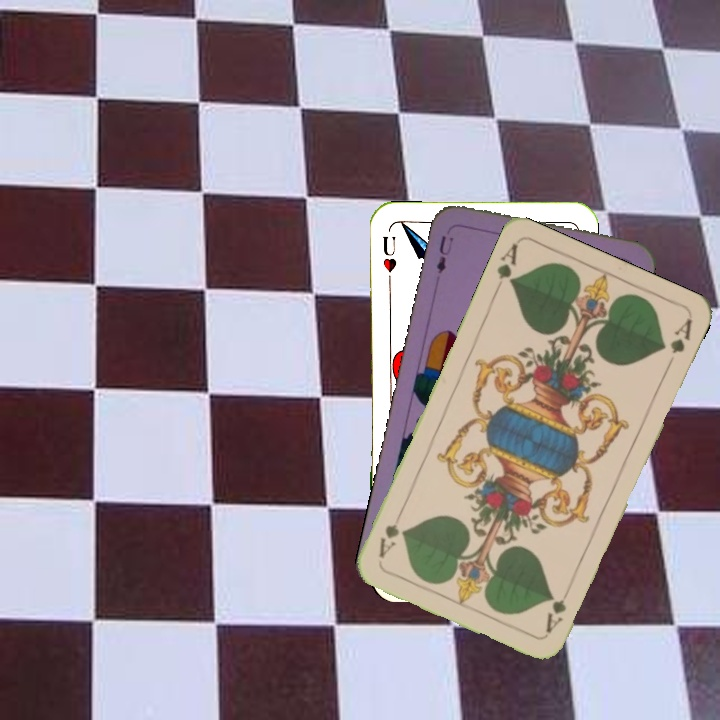EU: (432, 231, 456, 276)
GA: (541, 582, 575, 636), (490, 239, 521, 296)
HU: (379, 231, 400, 285)
